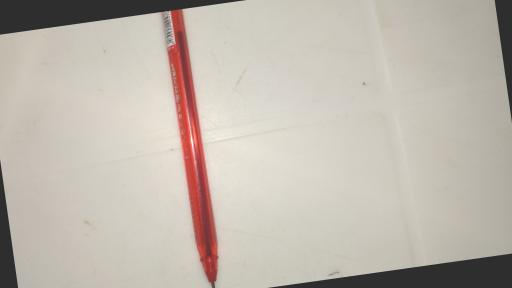pen: (163, 8, 224, 288)
